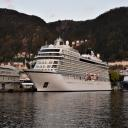cruises: (23, 34, 115, 96)
